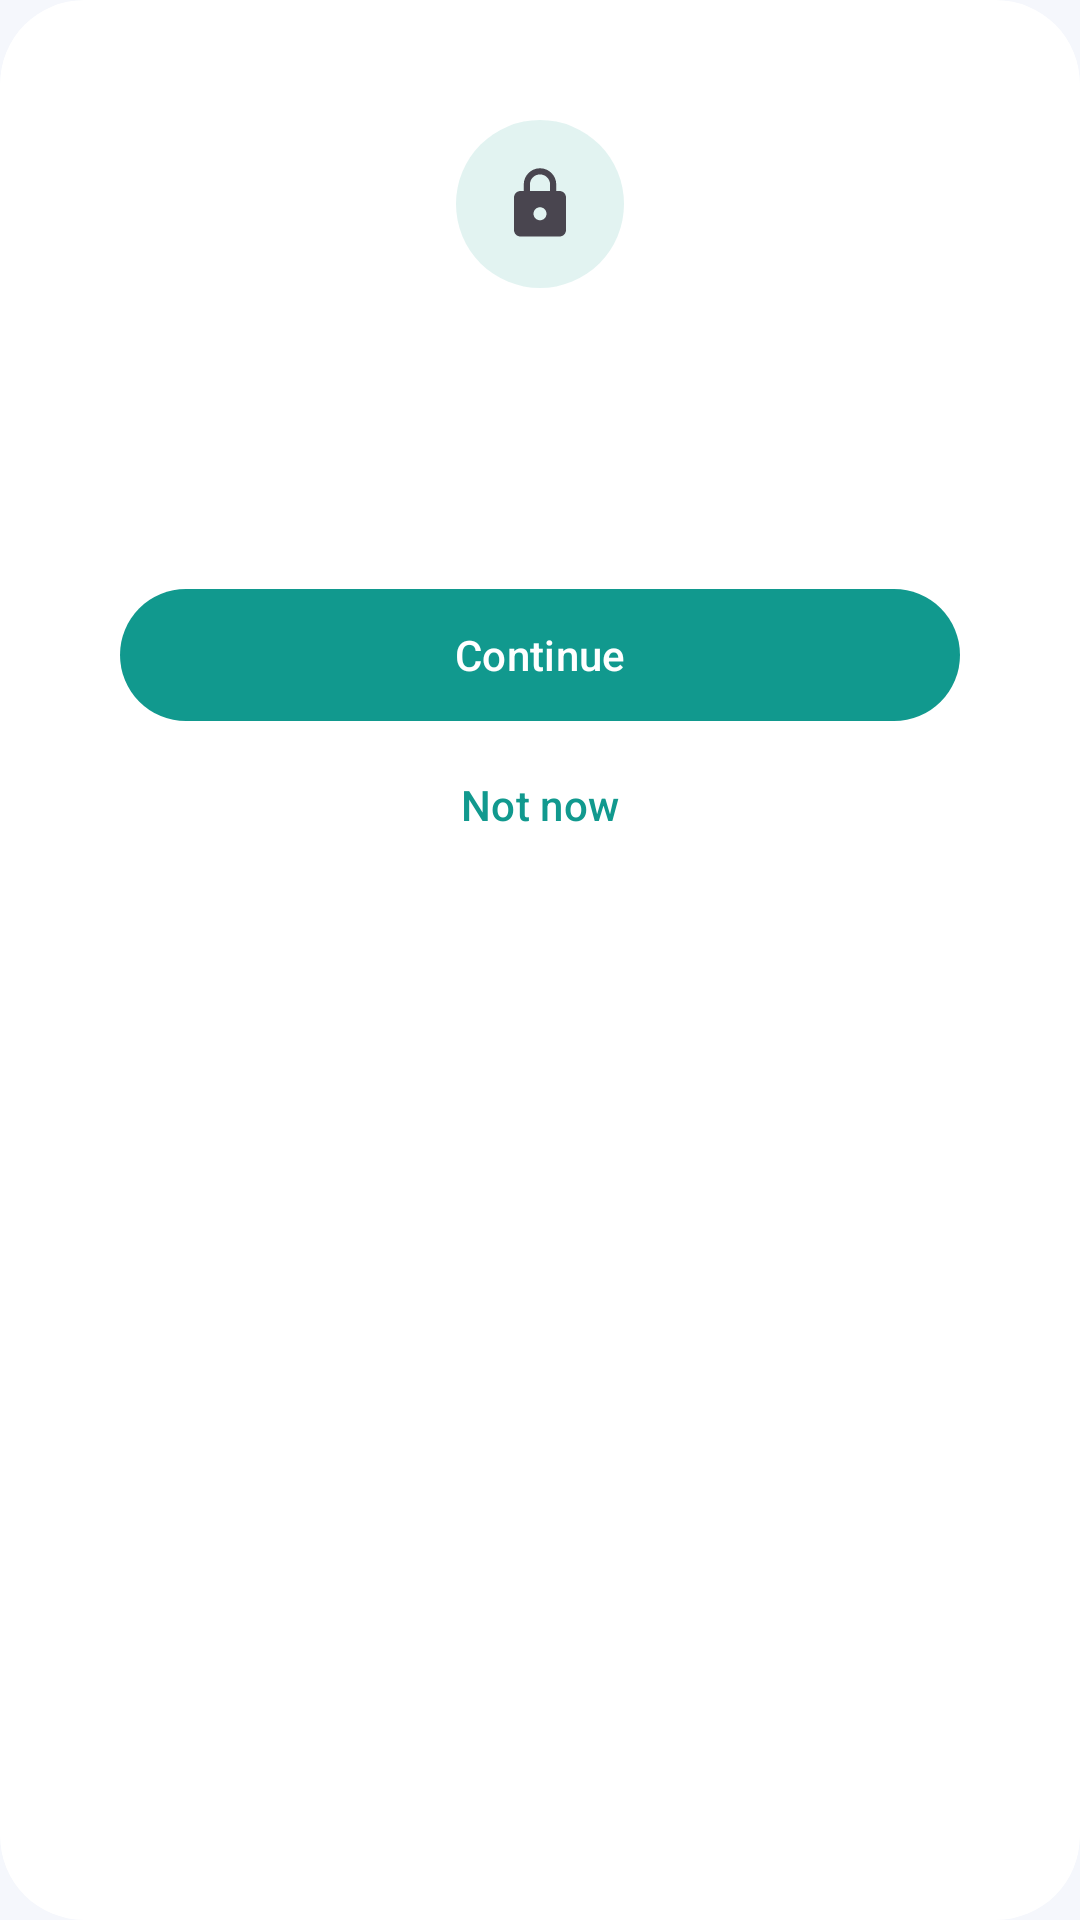

Named icons in this screenshot (1080w x 1920h) and their centers, (x,y):
lock: (540,202)
